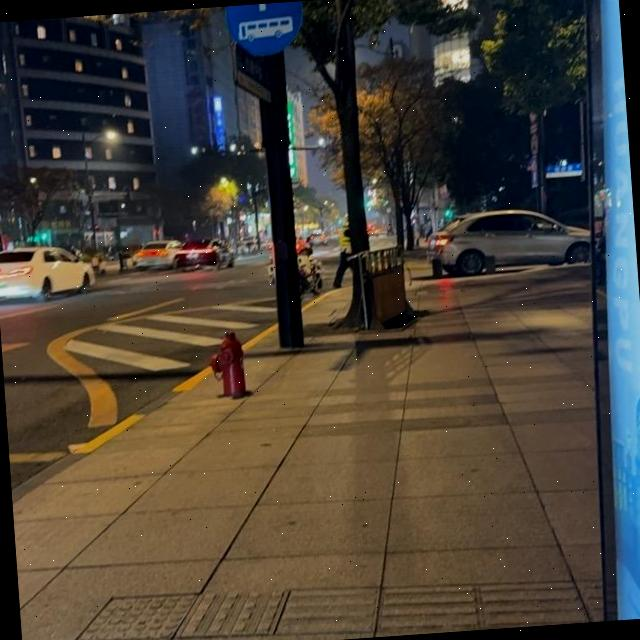curb: (11, 366, 212, 504), (243, 324, 276, 349), (302, 290, 337, 310)
